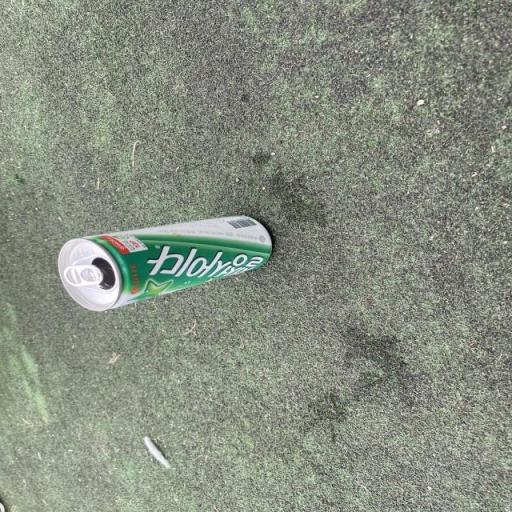metal: (6, 177, 318, 361)
